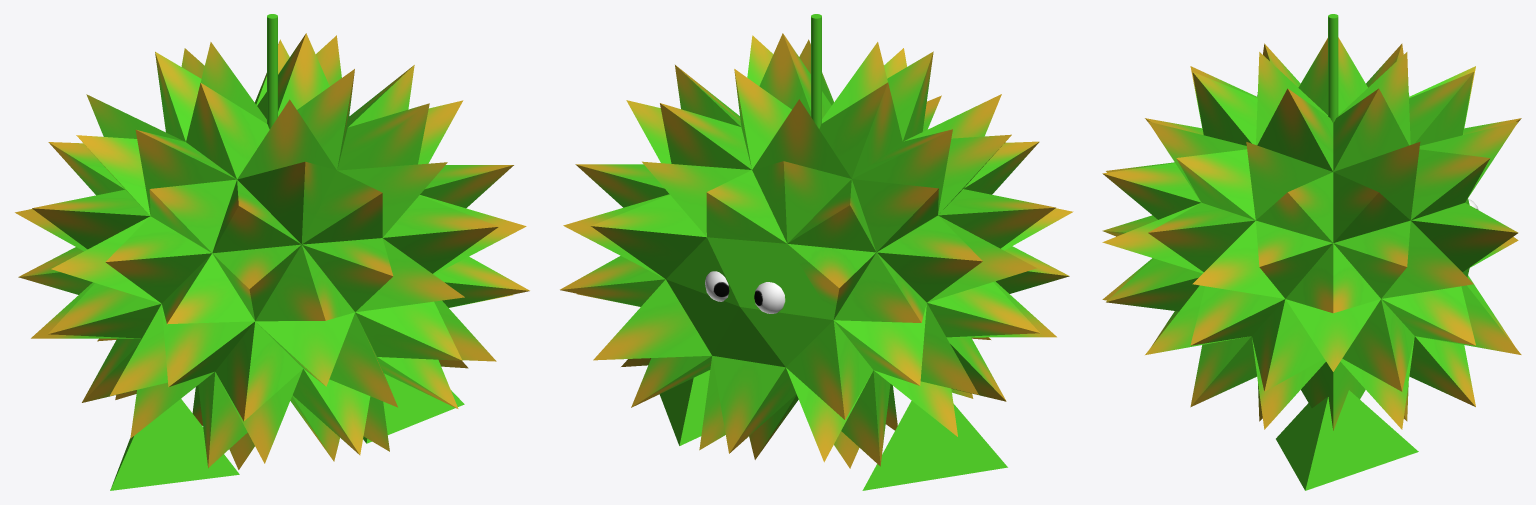
File: enemy_spike.gltf
3 views of the same model, side by side, from view 1: azimuth 30°, elevation 25°; view 2: azimuth 150°, elevation 25°; view 3: azimuth 270°, elevation 25° (orthographic). The views are drawn at different scales.
Visible parts, largest first — view 1: ICO球, 円錐.001, 円柱; view 2: ICO球, 円錐.001, 円柱; view 3: ICO球, 円錐.001, 円柱.
Boxes of the visible parts, x1,y1,x2,y2 form: ICO球: (15, 33, 529, 469); 円錐.001: (110, 373, 464, 490); 円柱: (267, 14, 277, 129); ICO球: (560, 33, 1073, 468); 円錐.001: (659, 370, 1007, 490); 円柱: (811, 14, 821, 128); ICO球: (1102, 37, 1521, 430); 円錐.001: (1276, 390, 1418, 490); 円柱: (1328, 14, 1338, 123).
Size of the model in its own units: 2.28 by 2.05 by 1.97.
1 material, 1 textured.
